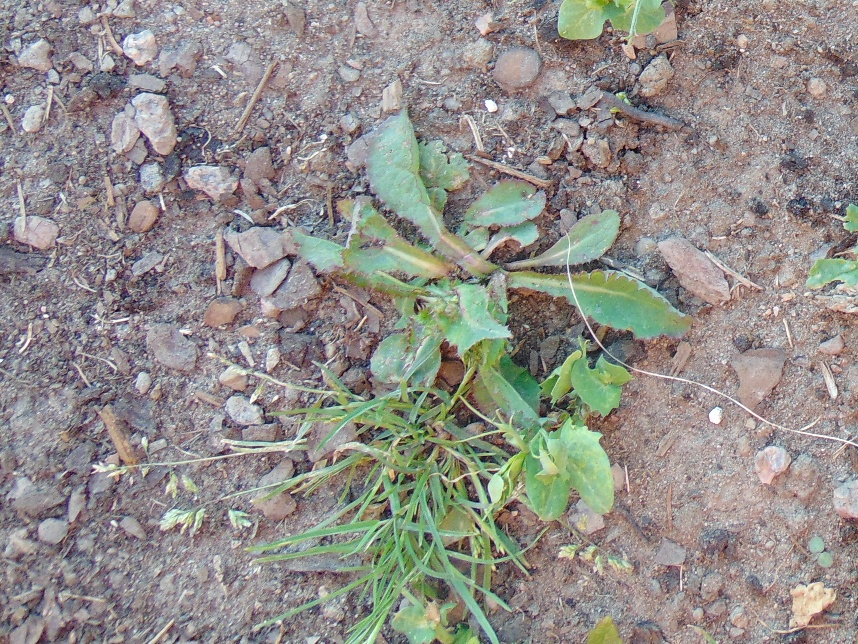crop: (463, 337, 634, 523), (556, 1, 679, 47)
weed: (283, 113, 685, 363), (296, 353, 519, 644), (805, 198, 858, 293), (583, 615, 625, 644), (807, 536, 835, 570)
